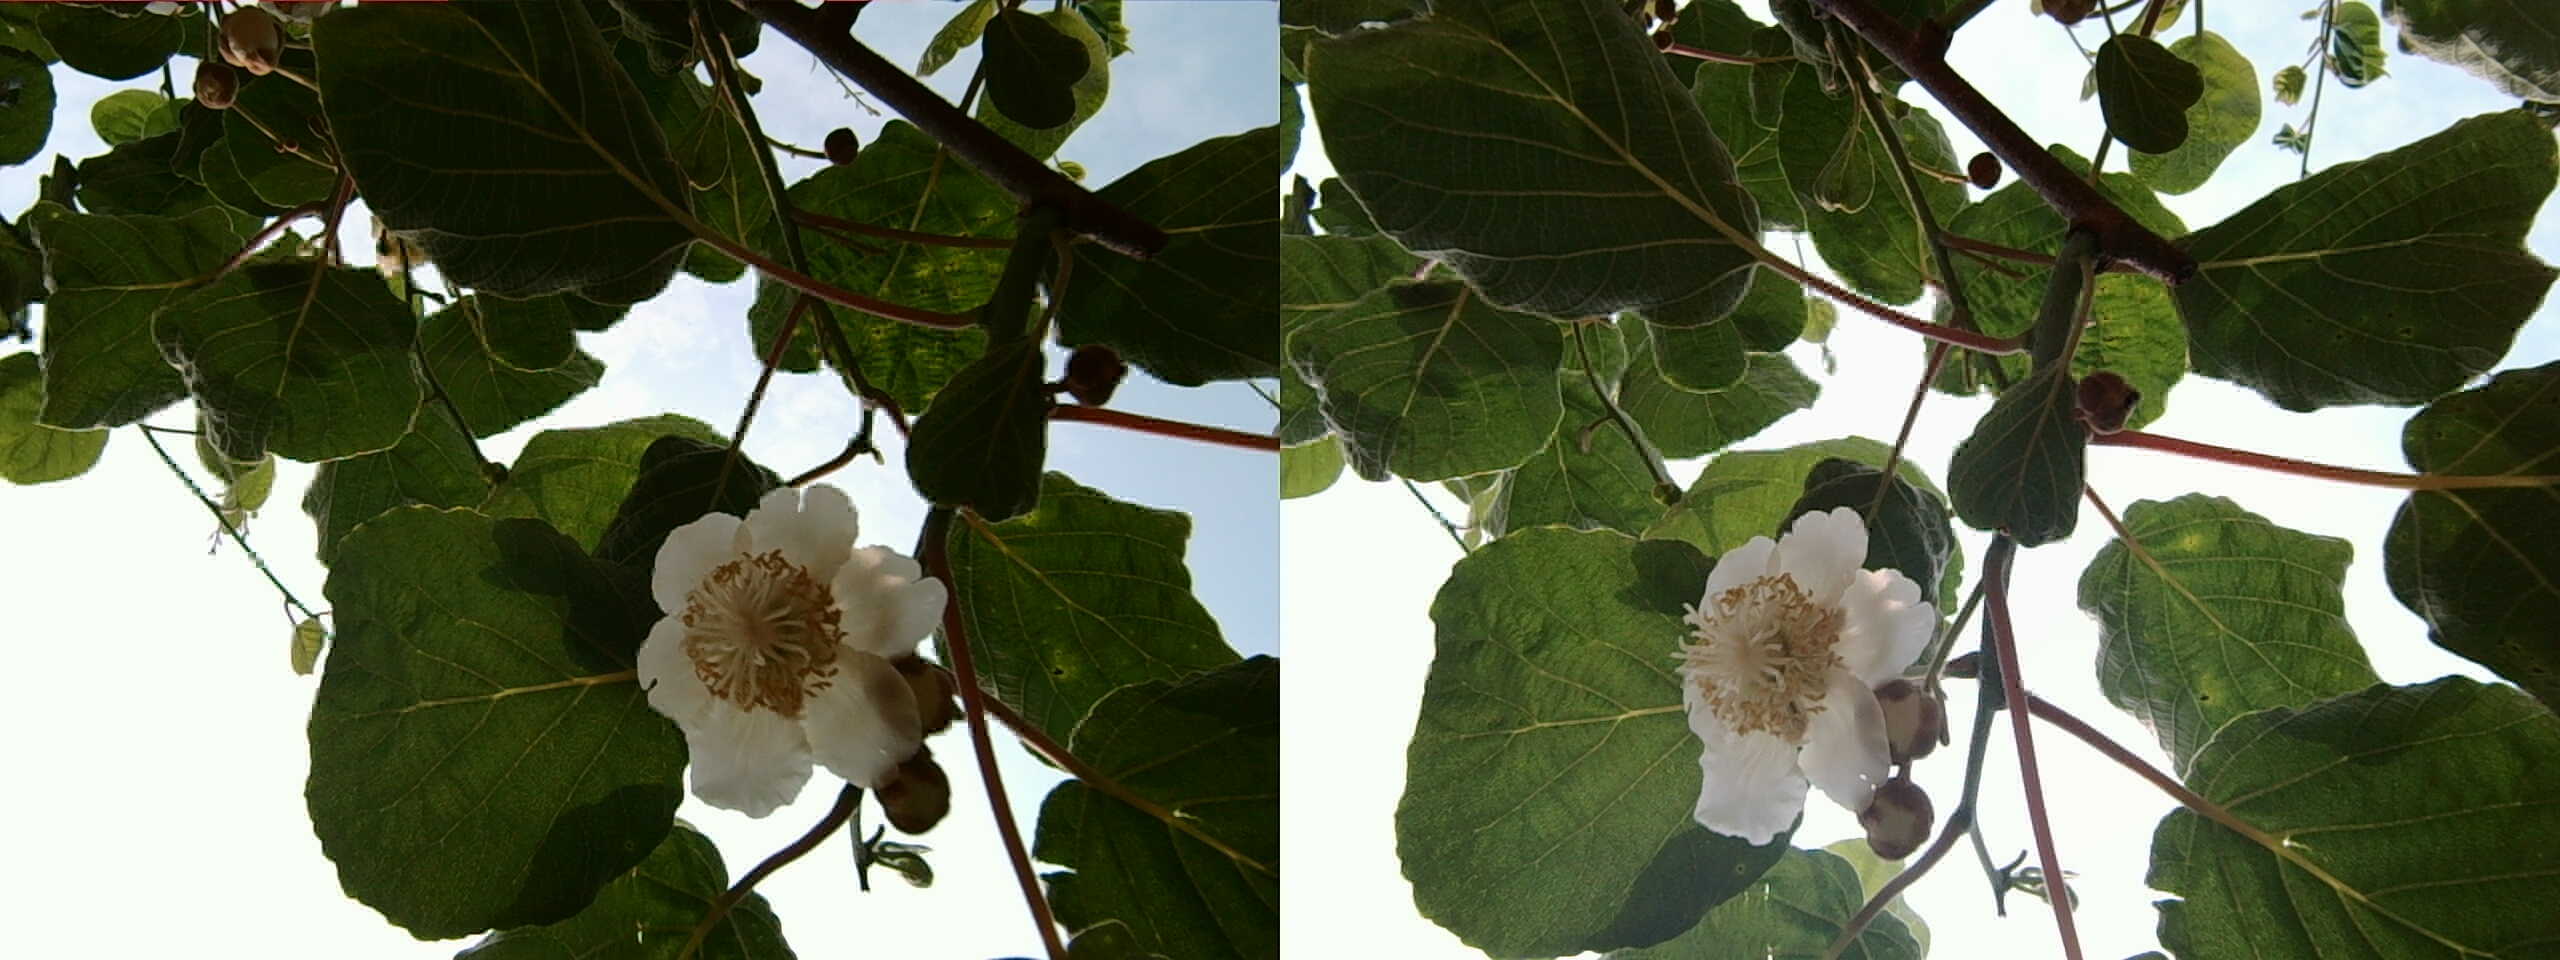flower: (627, 487, 927, 807), (1660, 498, 1930, 839)
